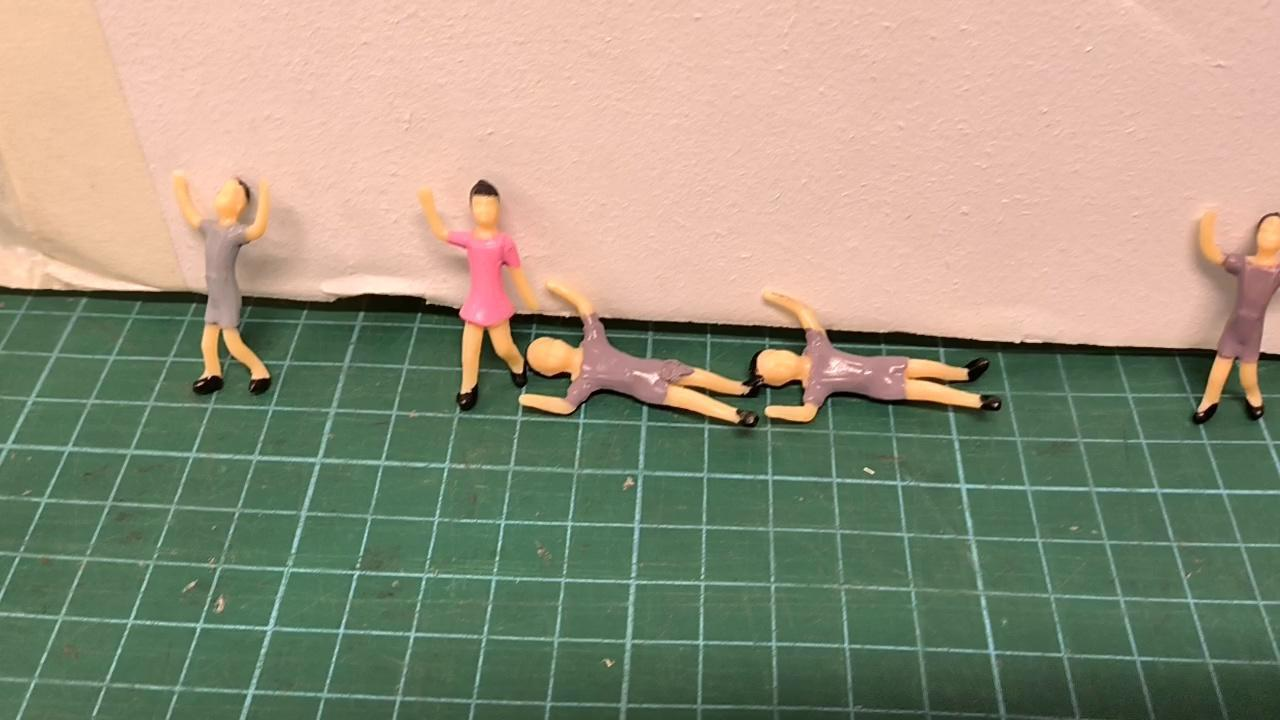human: (514, 280, 766, 438), (750, 292, 1012, 426), (419, 176, 543, 408), (171, 164, 279, 396), (1187, 202, 1280, 428)
